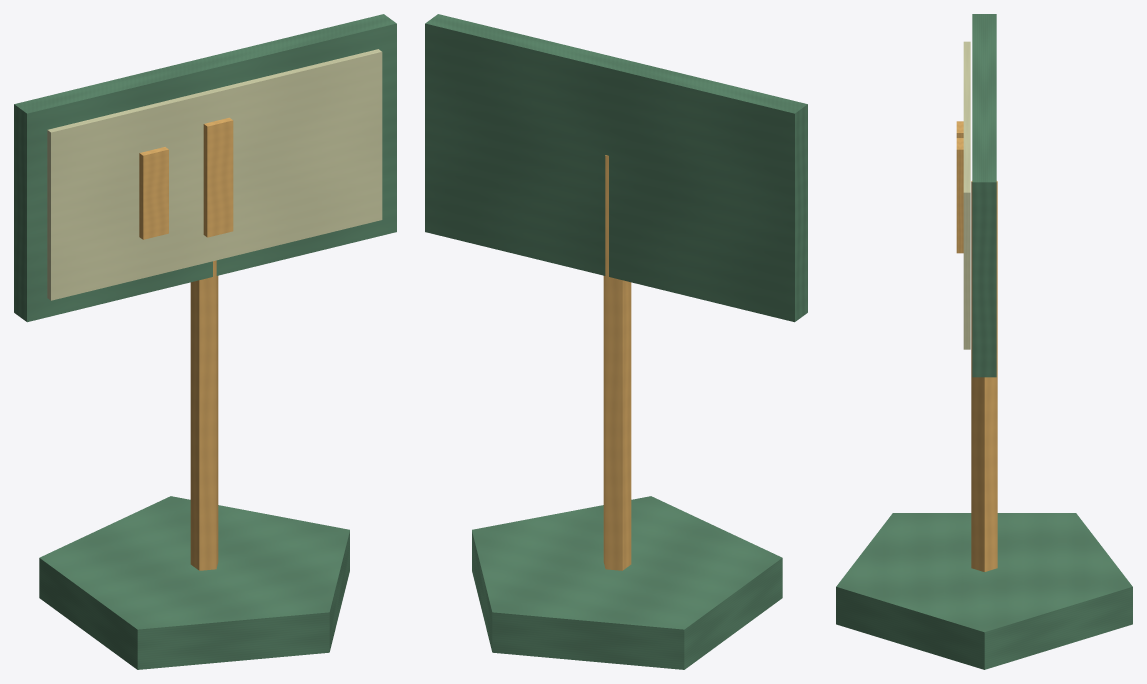
The model's file is atlas100-s001-a11.lod1.glb.
3 views of the same model, side by side, from view 1: azimuth 30°, elevation 25°; view 2: azimuth 150°, elevation 25°; view 3: azimuth 270°, elevation 25° (orthographic). The views are drawn at different scales.
Parts seen in each view (by area): view 1: atlas100-s001-a11:part-003, atlas100-s001-a11:part-000, atlas100-s001-a11:part-002, atlas100-s001-a11:part-001, atlas100-s001-a11:part-005, atlas100-s001-a11:part-004; view 2: atlas100-s001-a11:part-002, atlas100-s001-a11:part-000, atlas100-s001-a11:part-001; view 3: atlas100-s001-a11:part-000, atlas100-s001-a11:part-002, atlas100-s001-a11:part-001, atlas100-s001-a11:part-003, atlas100-s001-a11:part-005.
Part boxes in pixels (left/top/right/bottom): atlas100-s001-a11:part-003: left=47, top=49, right=382, bottom=300; atlas100-s001-a11:part-000: left=39, top=496, right=349, bottom=669; atlas100-s001-a11:part-002: left=14, top=14, right=396, bottom=322; atlas100-s001-a11:part-001: left=190, top=260, right=218, bottom=570; atlas100-s001-a11:part-005: left=203, top=117, right=233, bottom=237; atlas100-s001-a11:part-004: left=139, top=147, right=168, bottom=239; atlas100-s001-a11:part-002: left=425, top=14, right=807, bottom=322; atlas100-s001-a11:part-000: left=472, top=496, right=782, bottom=669; atlas100-s001-a11:part-001: left=603, top=155, right=631, bottom=570; atlas100-s001-a11:part-000: left=836, top=513, right=1132, bottom=669; atlas100-s001-a11:part-002: left=972, top=14, right=996, bottom=377; atlas100-s001-a11:part-001: left=971, top=181, right=997, bottom=571; atlas100-s001-a11:part-003: left=963, top=41, right=970, bottom=349; atlas100-s001-a11:part-005: left=956, top=138, right=963, bottom=253.
Size of the model in its own units: 1.15 by 1.61 by 0.856.
3 materials, 3 textured.
